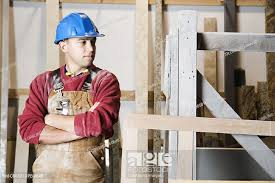Person_wearing_helmet: (48, 12, 107, 51)
